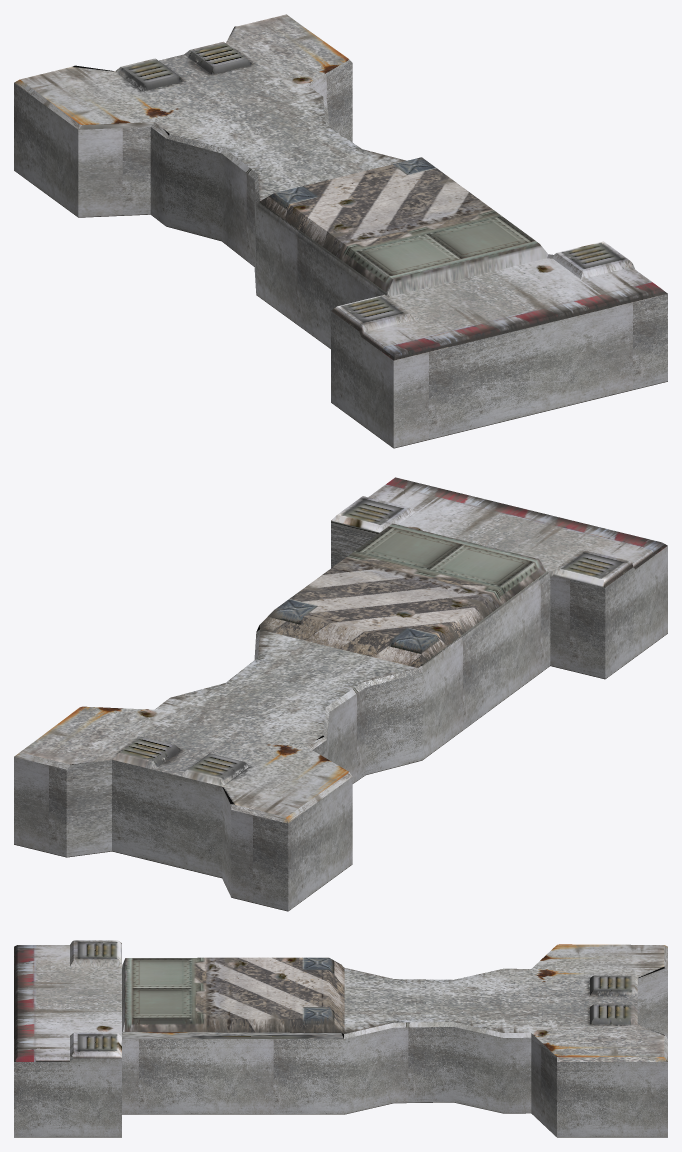
File: BossShip3.FBX
3 renders of one model, top to bottom at view 1: azimuth 30°, elevation 25°; view 2: azimuth 150°, elevation 25°; view 3: azimuth 270°, elevation 25°, orthographic. The views are drawn at different scales.
Visible parts, largest first — view 1: Box001; view 2: Box001; view 3: Box001.
Boxes of the visible parts, x1,y1,x2,y2 form: Box001: [14, 14, 667, 448]; Box001: [14, 477, 667, 911]; Box001: [14, 940, 667, 1137].
Bounding box in the file's own units: 25 × 9.25 × 59.98.
Materials: 2 (2 with a texture image).
